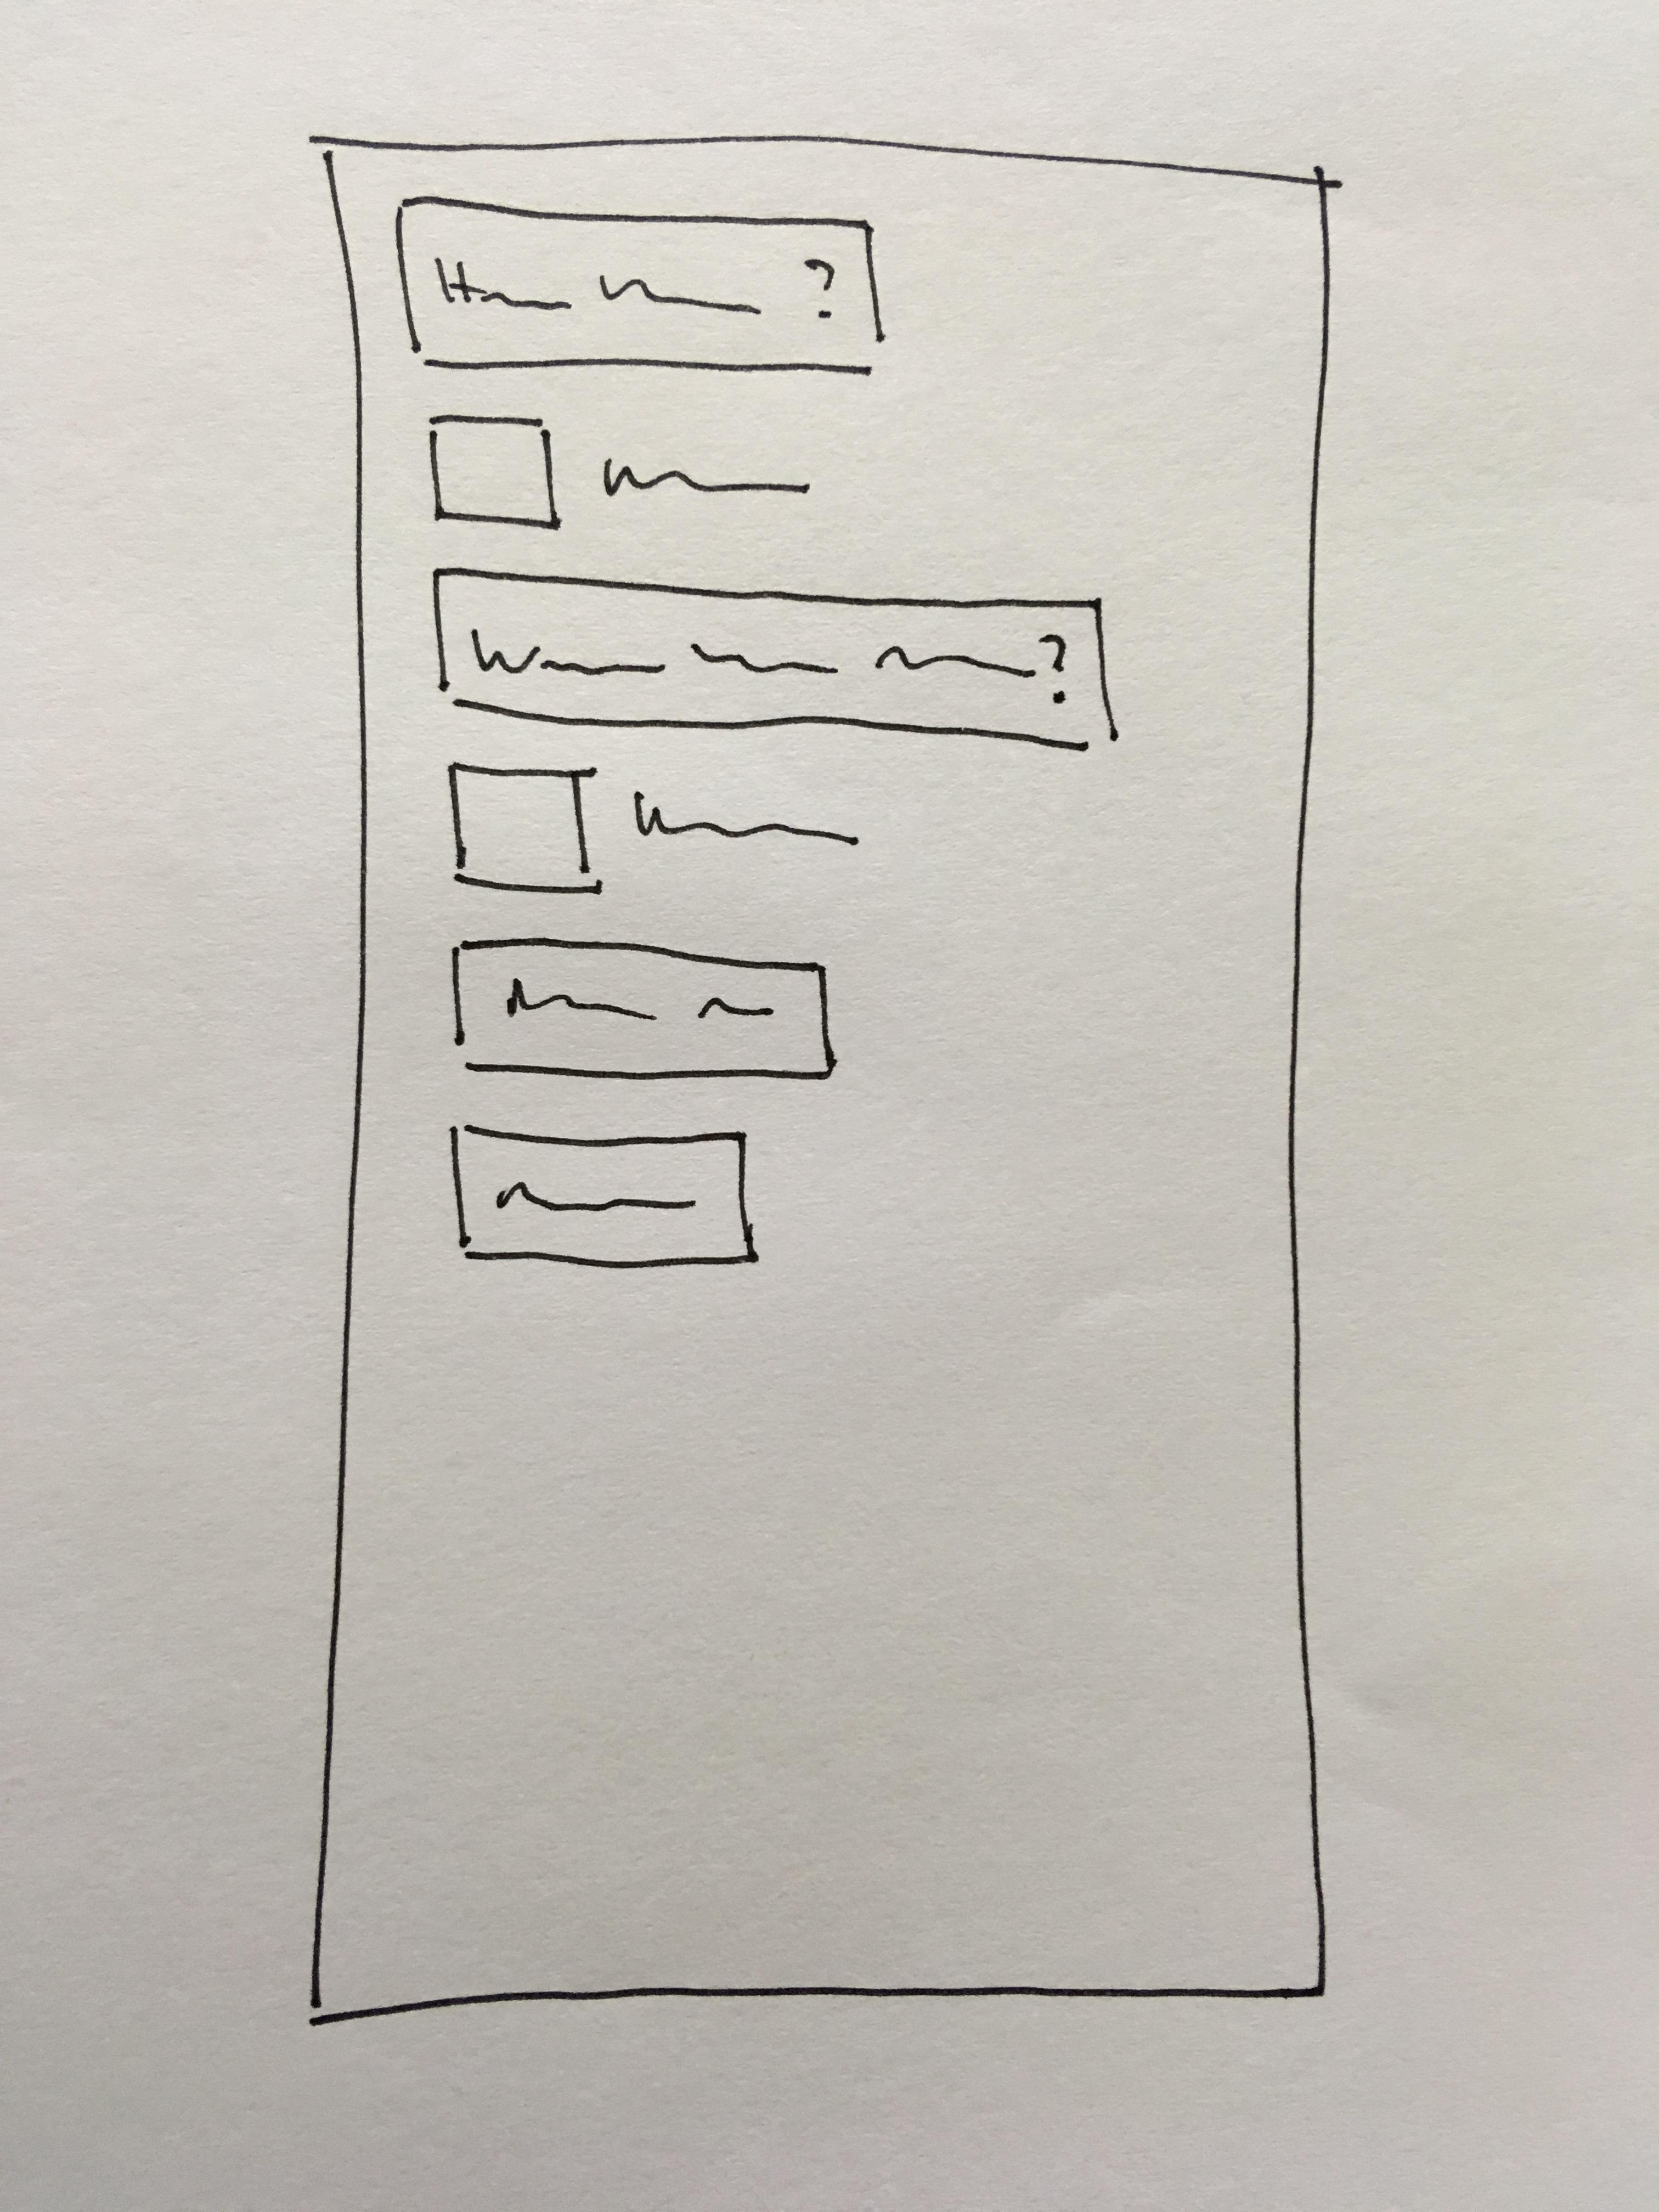Button: (436, 568, 1119, 751), (394, 197, 884, 369), (448, 934, 833, 1080), (446, 1123, 760, 1266)
CheckBox: (451, 768, 868, 888), (425, 416, 812, 523)
Screen: (298, 134, 1331, 2024)
